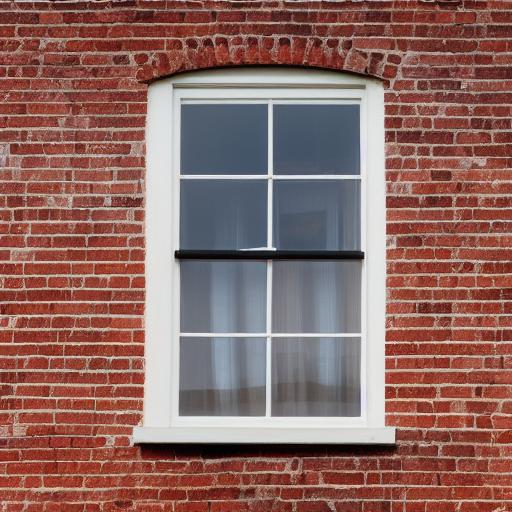Window: (126, 38, 406, 456)
